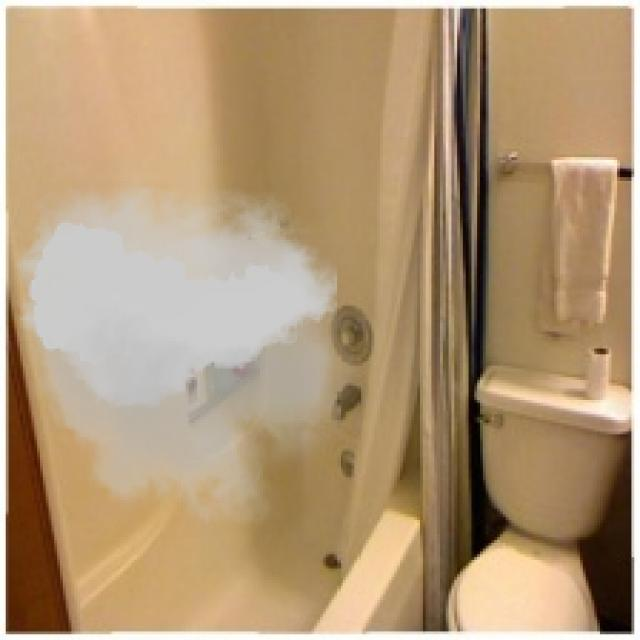smoke: (6, 157, 360, 546)
